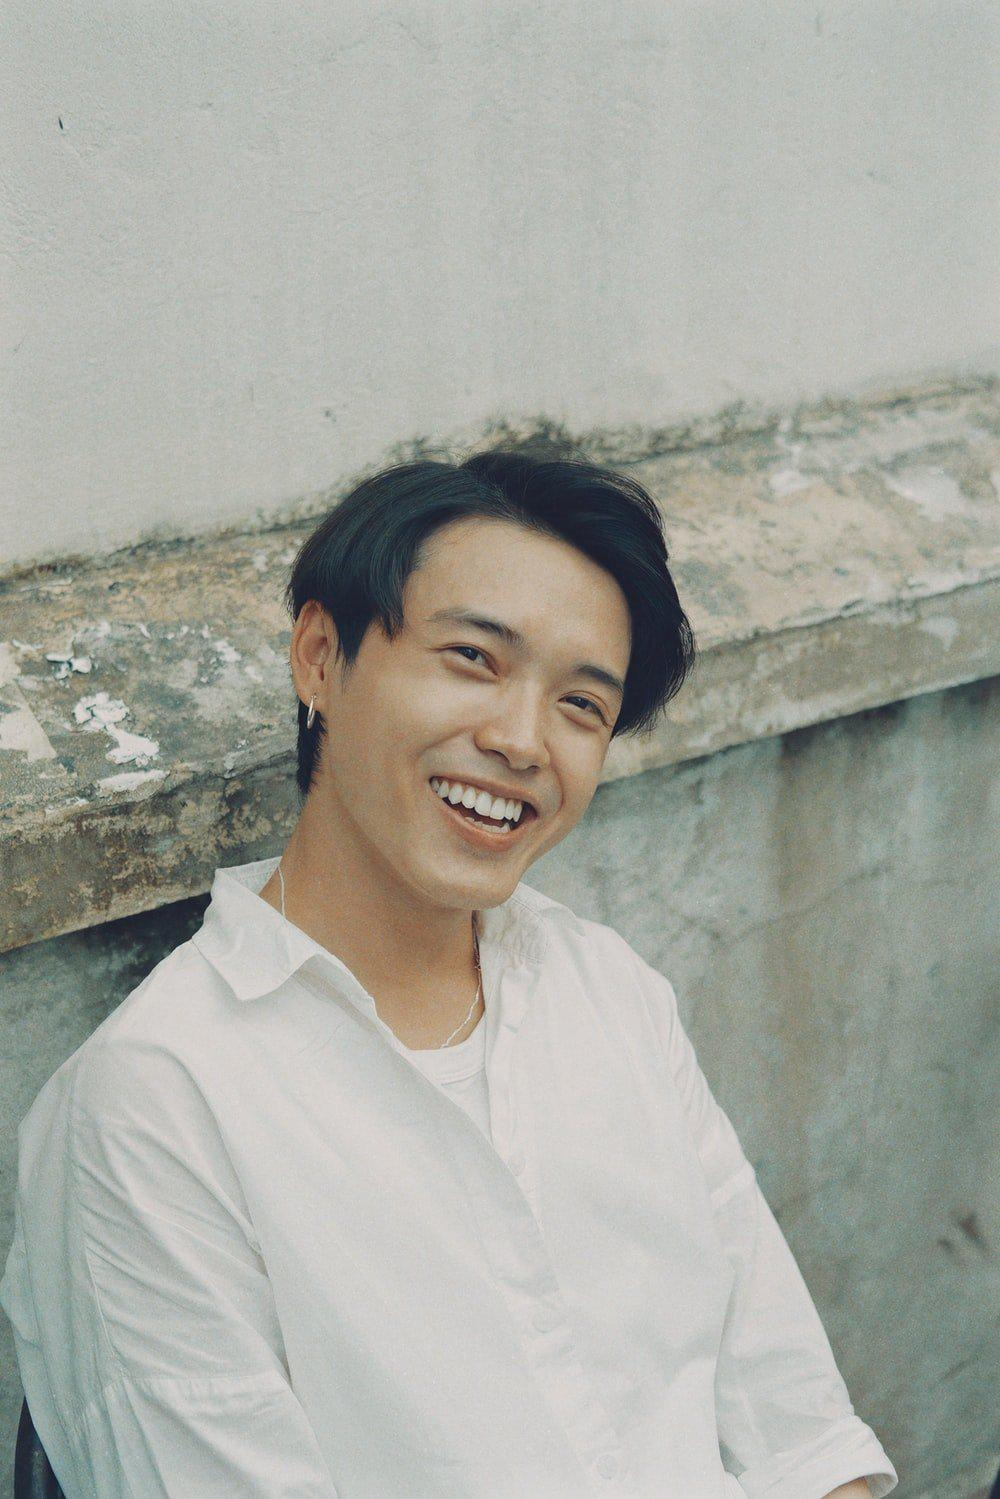Sober: (350, 541, 624, 909)
